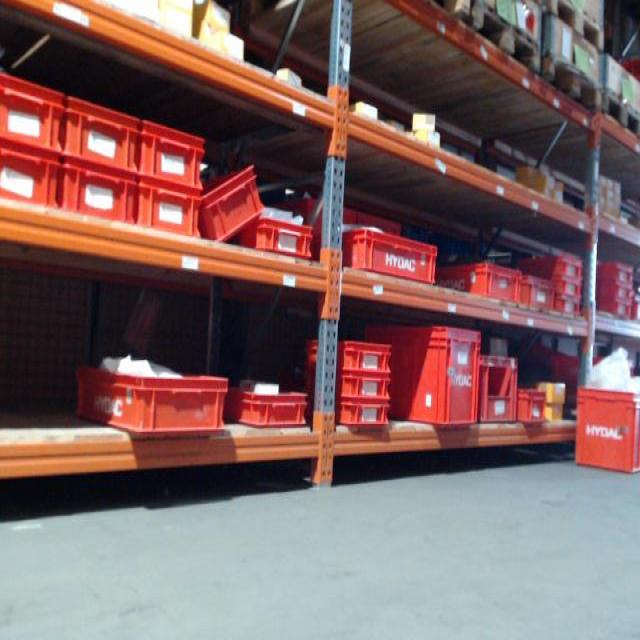pallet: (470, 4, 540, 72), (540, 55, 604, 121), (544, 3, 610, 55), (597, 82, 638, 149), (431, 0, 470, 30)
small_load_carrier: (365, 317, 484, 437), (74, 352, 231, 440), (60, 92, 138, 180), (573, 383, 638, 477), (199, 159, 268, 247), (56, 163, 136, 238), (341, 229, 440, 288), (2, 69, 67, 156), (227, 378, 313, 440), (140, 113, 204, 196), (134, 184, 202, 249), (429, 260, 522, 307), (2, 147, 57, 218), (478, 349, 524, 430), (234, 218, 312, 264), (304, 333, 393, 372), (306, 367, 391, 400), (309, 396, 391, 430), (513, 253, 584, 278), (518, 386, 551, 430), (522, 275, 555, 315), (592, 297, 632, 323), (546, 295, 583, 320), (597, 260, 634, 283), (593, 282, 634, 301), (547, 281, 586, 299)
